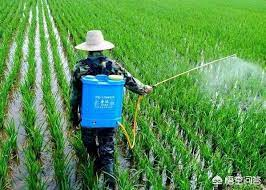berrl: (78, 74, 126, 131)
